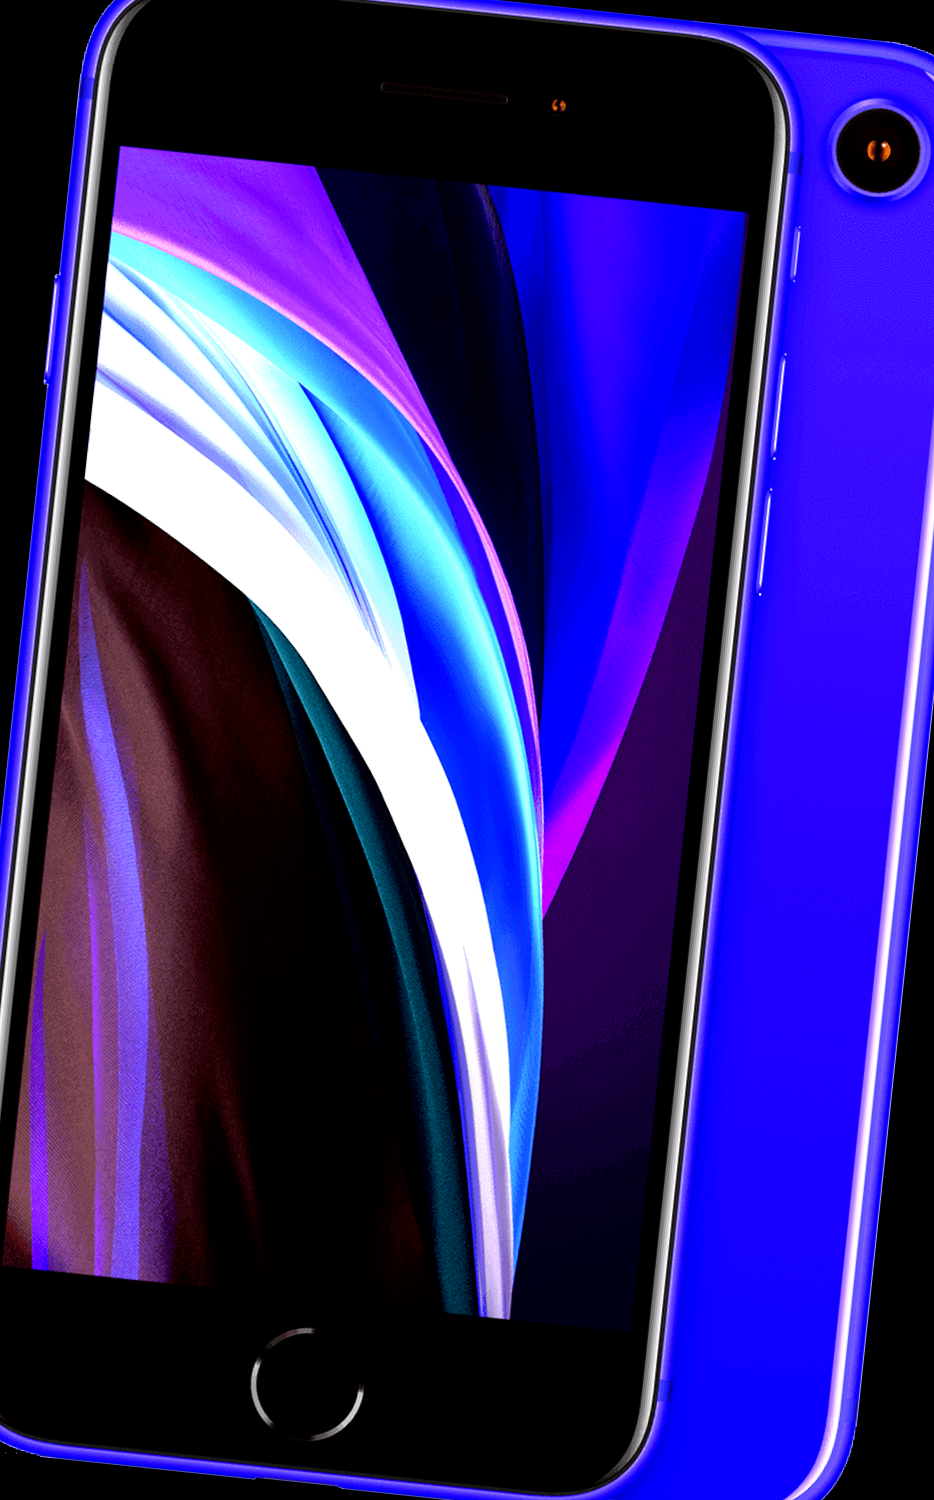iphone: (192, 6, 929, 1499)
